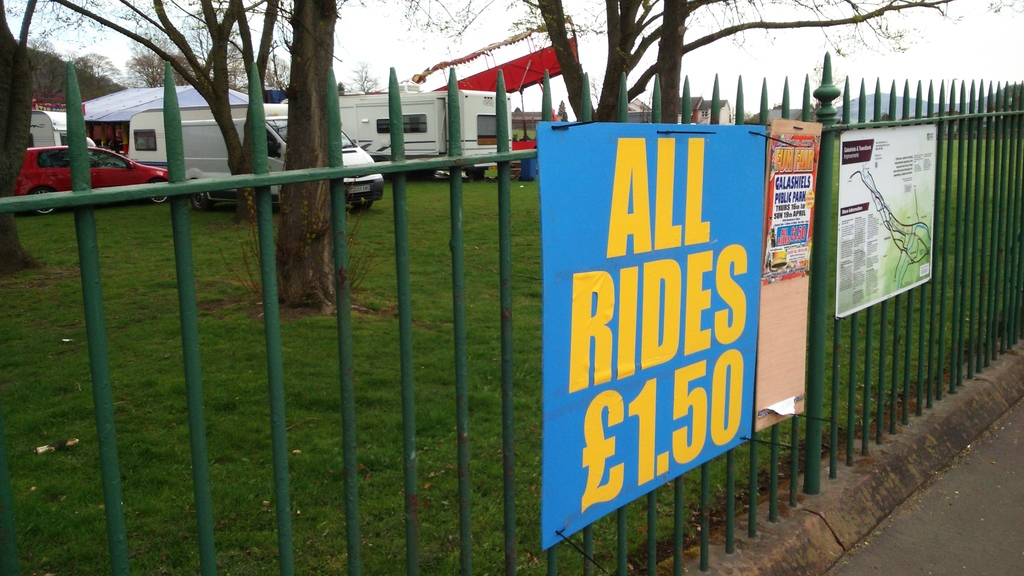Car: (11, 144, 171, 213)
